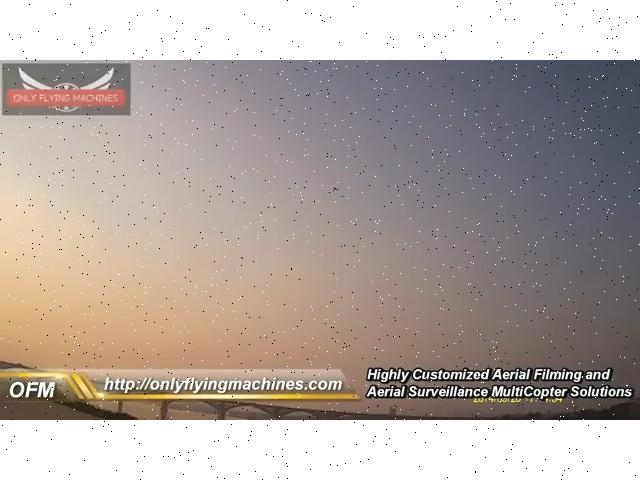Anti-Drone: (325, 184, 347, 199)
